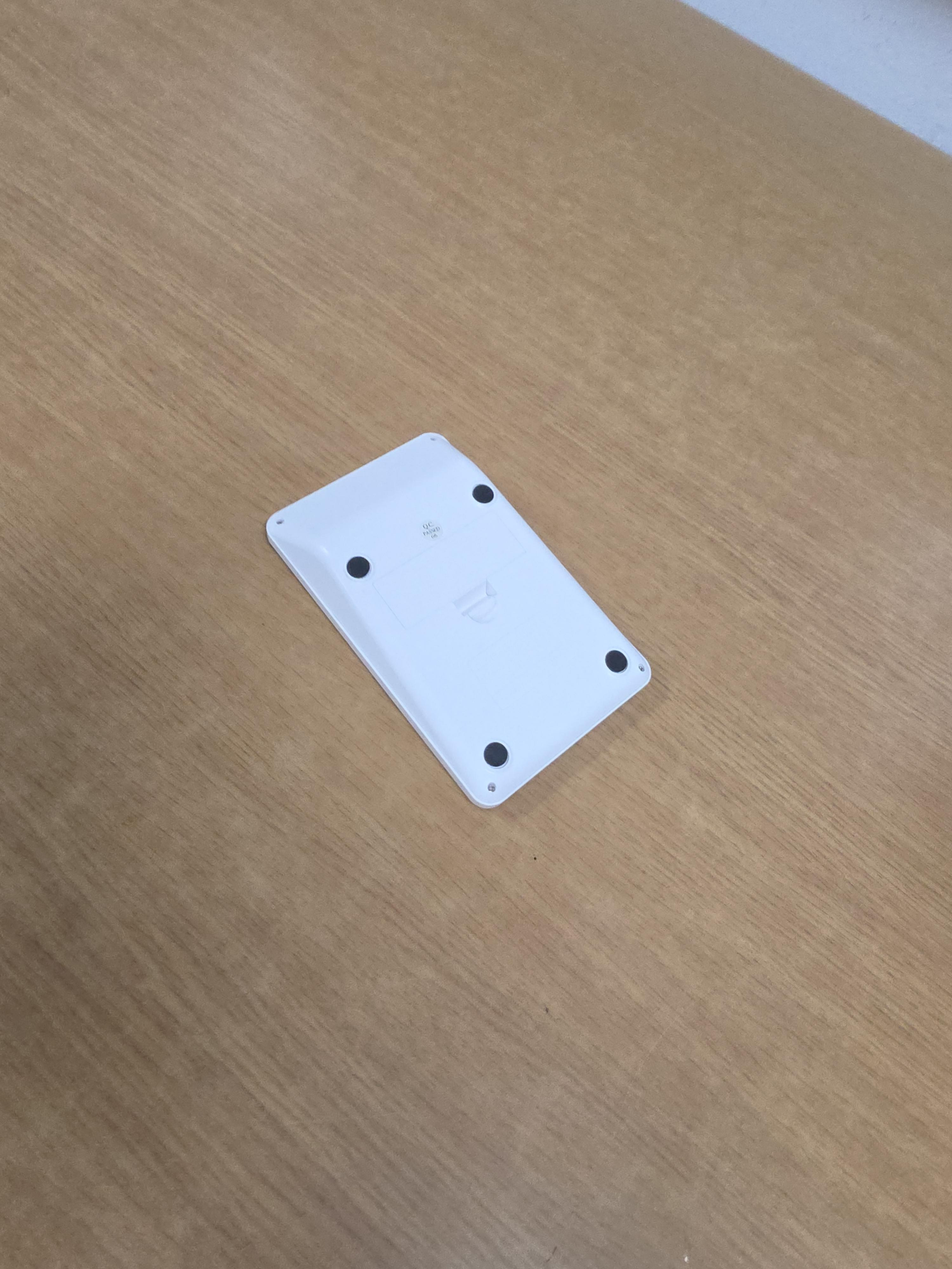calculator: (265, 432, 653, 809)
